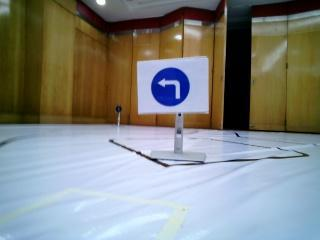left: (139, 59, 206, 109)
